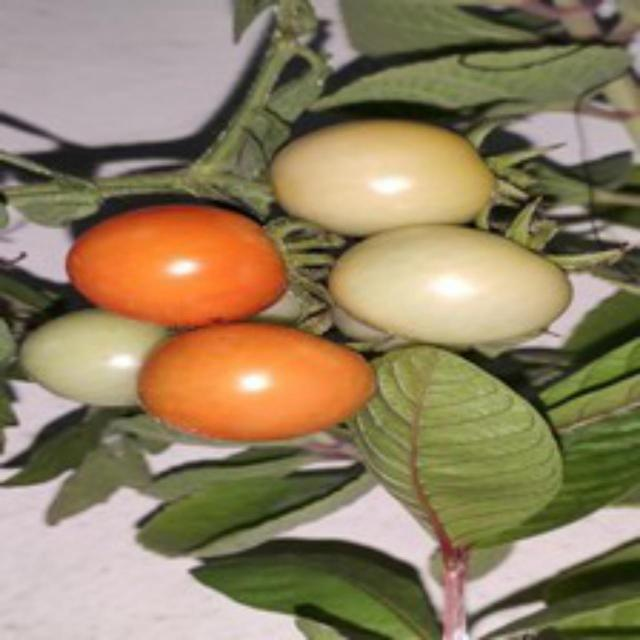tomato: (132, 326, 392, 450), (60, 195, 294, 318)
